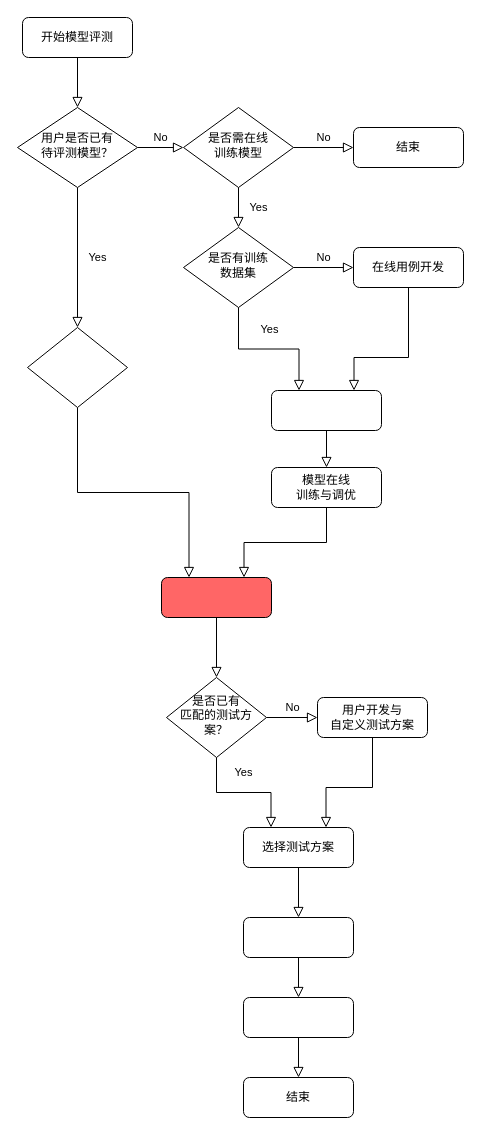
Some shapes in this 481 by 1135 pixel diagram are drawn without their labels. Each missing label, with the centre of its shape:
上传评测模型: (77,367)
执行测试: (298,937)
查看报告: (298,1017)
用户模型: (216,597)
训练用数据集: (326,410)
